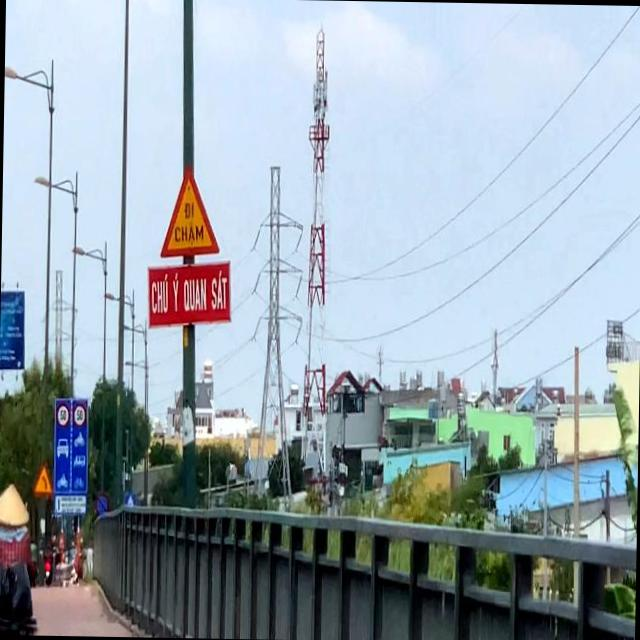P-127c: (49, 398, 88, 496)
W-201a: (32, 462, 52, 498)
W-245a: (158, 167, 218, 256)
